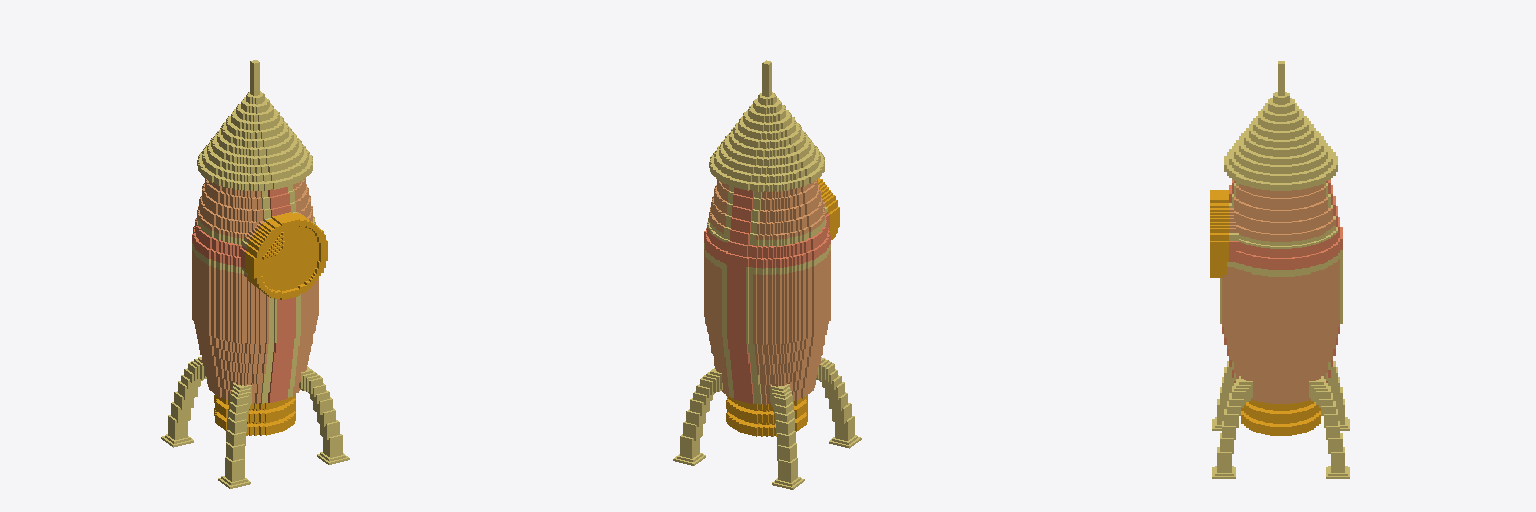
3 renders of one model, left to right at view 1: azimuth 30°, elevation 25°; view 2: azimuth 150°, elevation 25°; view 3: azimuth 270°, elevation 25°, orthographic.
Visible parts, largest first — view 1: object 1; view 2: object 1; view 3: object 1.
Boxes of the visible parts, box(x1,y1,x2,y2) form: object 1: box(161, 60, 349, 488); object 1: box(673, 60, 861, 489); object 1: box(1210, 61, 1349, 478).
Bounding box in the file's own units: 5.7 × 17.7 × 5.8.
Materials: 1 (1 with a texture image).